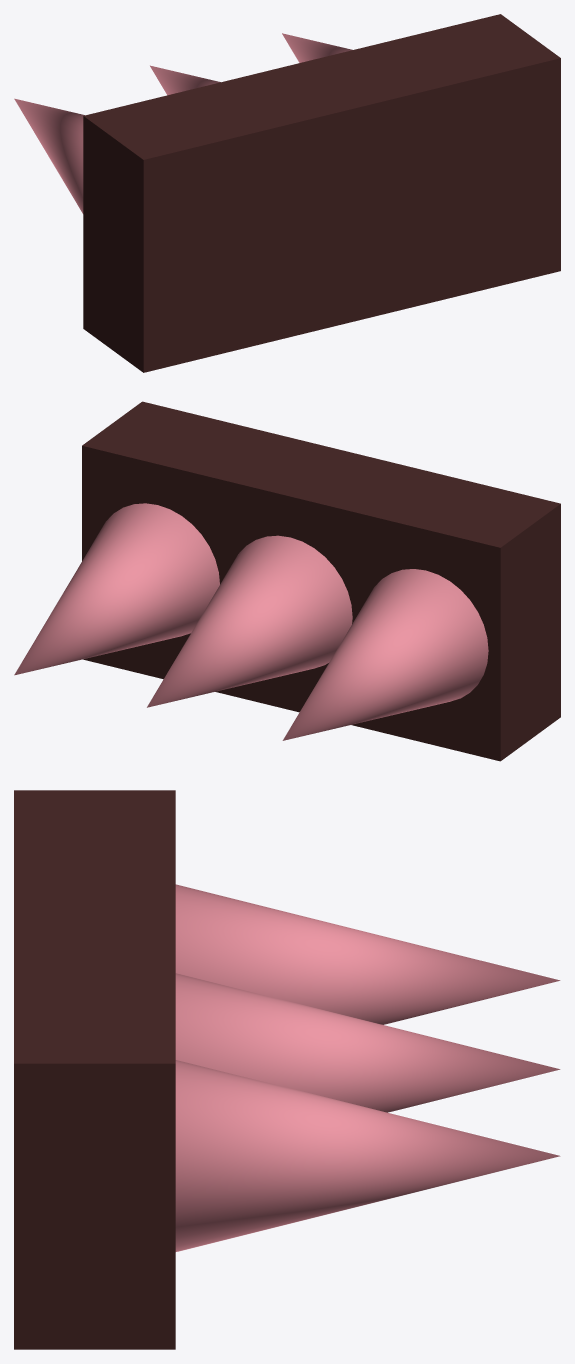
Rendered from spikes.glb.
The picture shows the model from 3 angles, top to bottom: view 1: azimuth 30°, elevation 25°; view 2: azimuth 150°, elevation 25°; view 3: azimuth 270°, elevation 25°; orthographic projection. The views are drawn at different scales.
Visible parts, largest first — view 1: Cube, Cone.001, Cone.002, Cone; view 2: Cube, Cone.001, Cone, Cone.002; view 3: Cube, Cone.002, Cone.001, Cone.
Part boxes in pixels (left/top/right/bottom): Cube: left=83, top=14, right=560, bottom=372; Cone.001: left=14, top=98, right=84, bottom=213; Cone.002: left=282, top=33, right=352, bottom=62; Cone: left=150, top=65, right=220, bottom=95; Cube: left=82, top=401, right=560, bottom=761; Cone.001: left=282, top=569, right=488, bottom=740; Cone: left=147, top=535, right=352, bottom=707; Cone.002: left=14, top=503, right=219, bottom=675; Cube: left=14, top=790, right=175, bottom=1349; Cone.002: left=175, top=1060, right=560, bottom=1251; Cone.001: left=175, top=884, right=560, bottom=1024; Cone: left=175, top=973, right=560, bottom=1112.
Size of the model in its own units: 2 by 0.9752 by 1.69.
